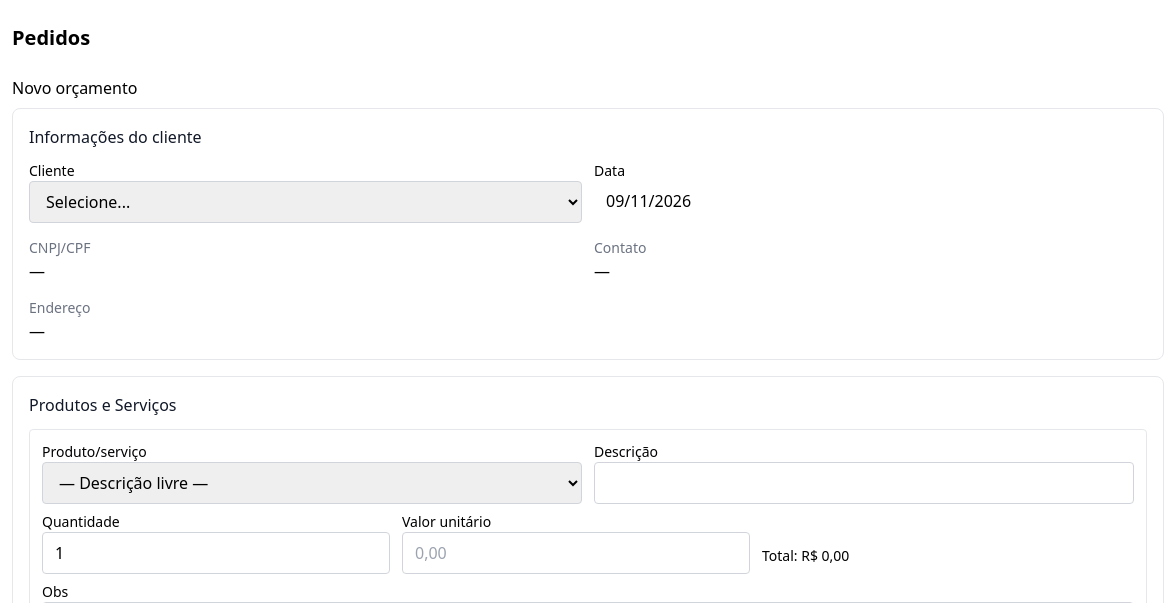
Test: PedidosPage › ao escolher o cliente, exibe CNPJ/CPF e endereço vindos do cadastro
The image size is (1164, 603).
Select "Ana" in the dropdown labelled "Cliente" at (306, 202), box [29,181,582,223]
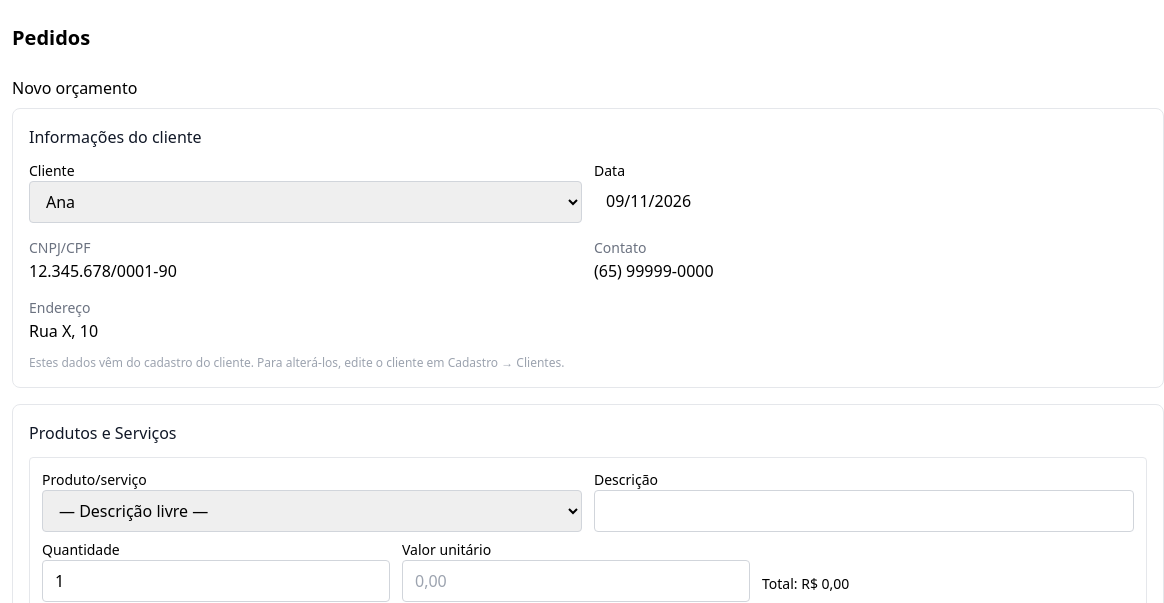
expect the text "12.345.678/0001-90" is shown: met, box [29,260,177,282]
expect the text "Rua X, 10" is shown: met, box [29,320,98,342]
